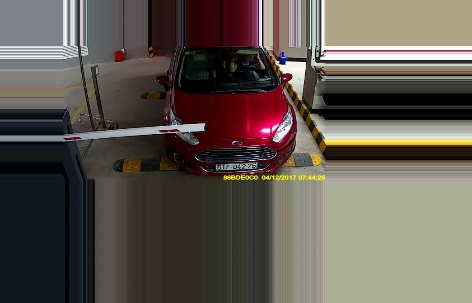plate: (211, 158, 263, 174)
